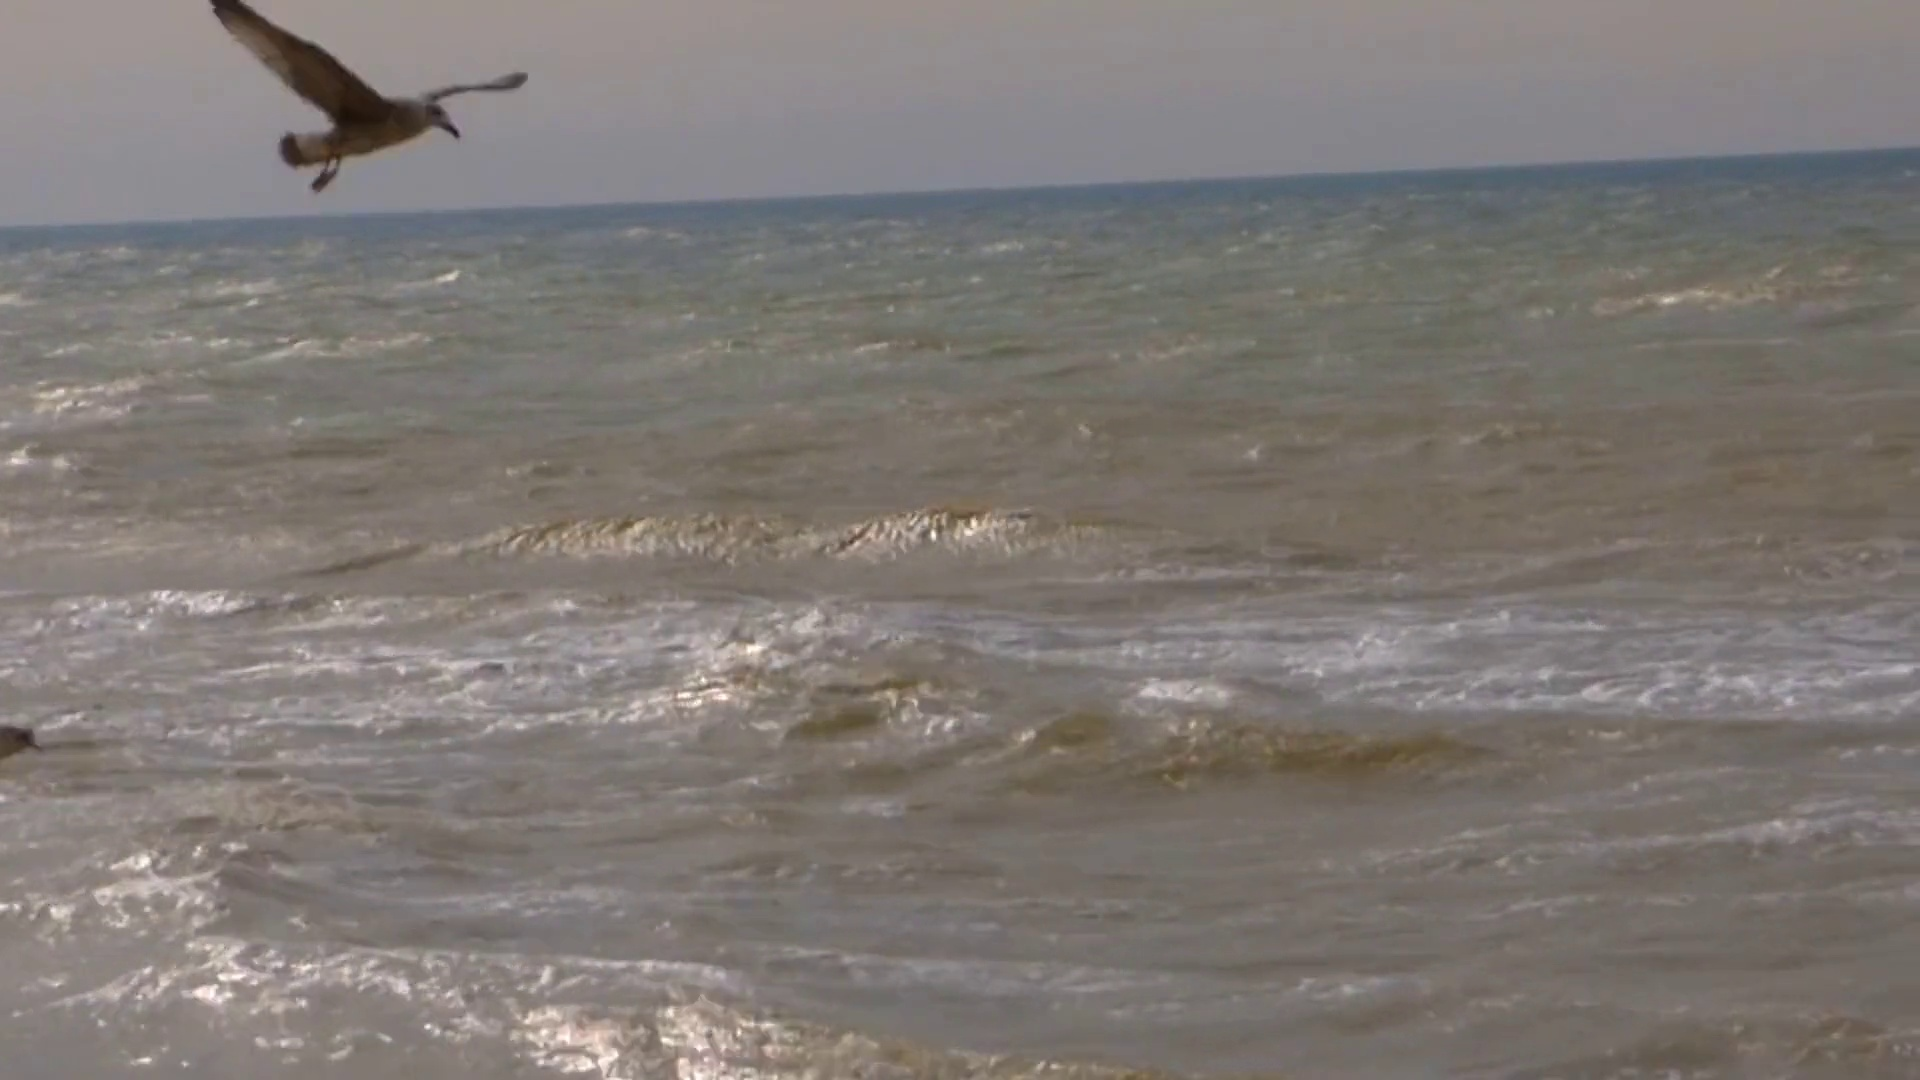bird: (214, 1, 529, 186)
